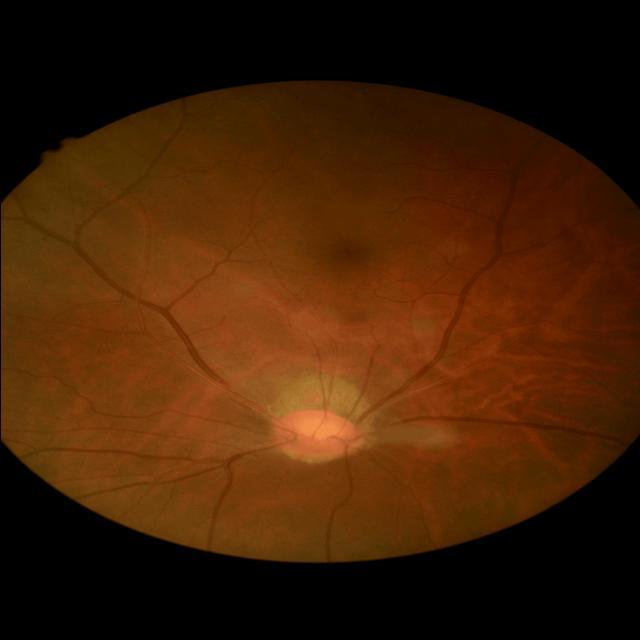cup: (293, 420, 351, 446)
disk: (268, 410, 364, 462)
